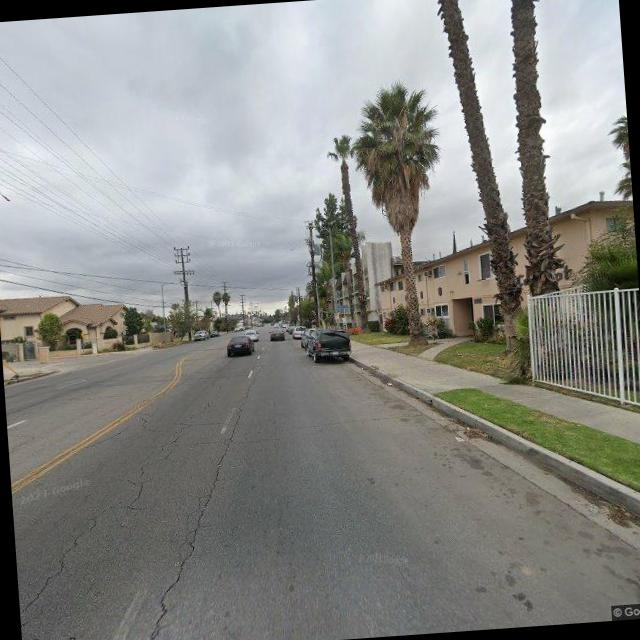pothole: (5, 402, 212, 616), (136, 376, 274, 640)
